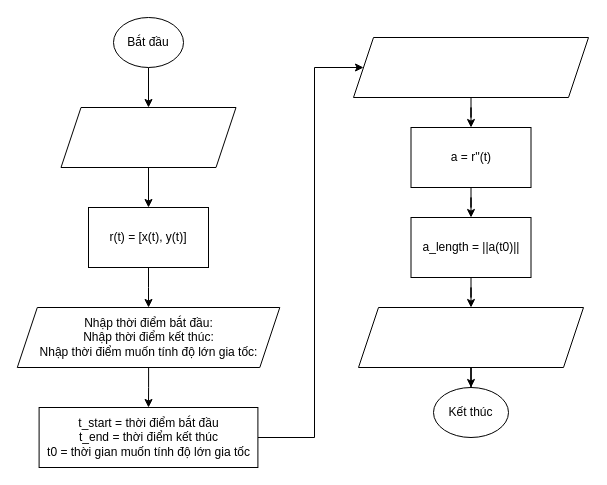
Image size: 607x485. Some labels were removed from this diagram. The shapes that lost their labels are listed below. From the top down, each one's centre as x and y in pixels, then its label:
At [470,67]: "Xuất đồ thị quỹ đạo chuyển động".
At [148,137]: "Nhập phương trình x(t) Nhập phương trình y(t)".
At [471,337]: "Xuất độ lớn gia tốc a_length".
